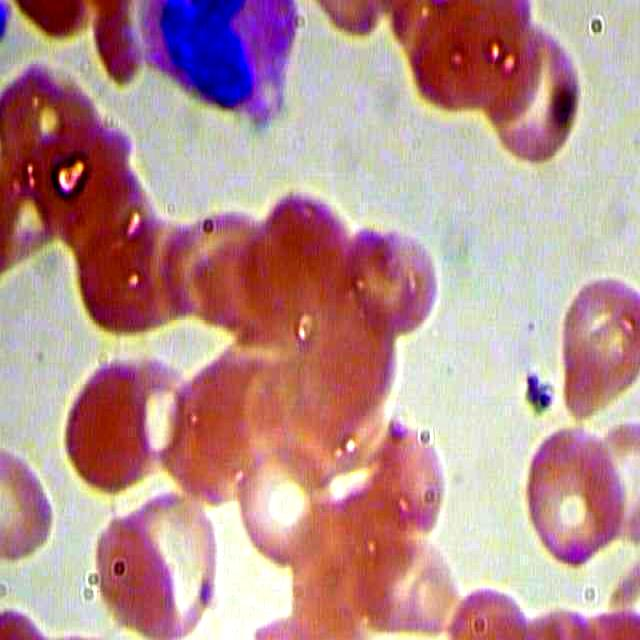Platelets: (135, 1, 302, 156)
RBC: (471, 15, 592, 173), (520, 416, 632, 573), (58, 347, 171, 500), (227, 427, 341, 572), (84, 505, 191, 636), (336, 211, 443, 341), (552, 267, 640, 424), (376, 413, 453, 543), (1, 436, 59, 575)
